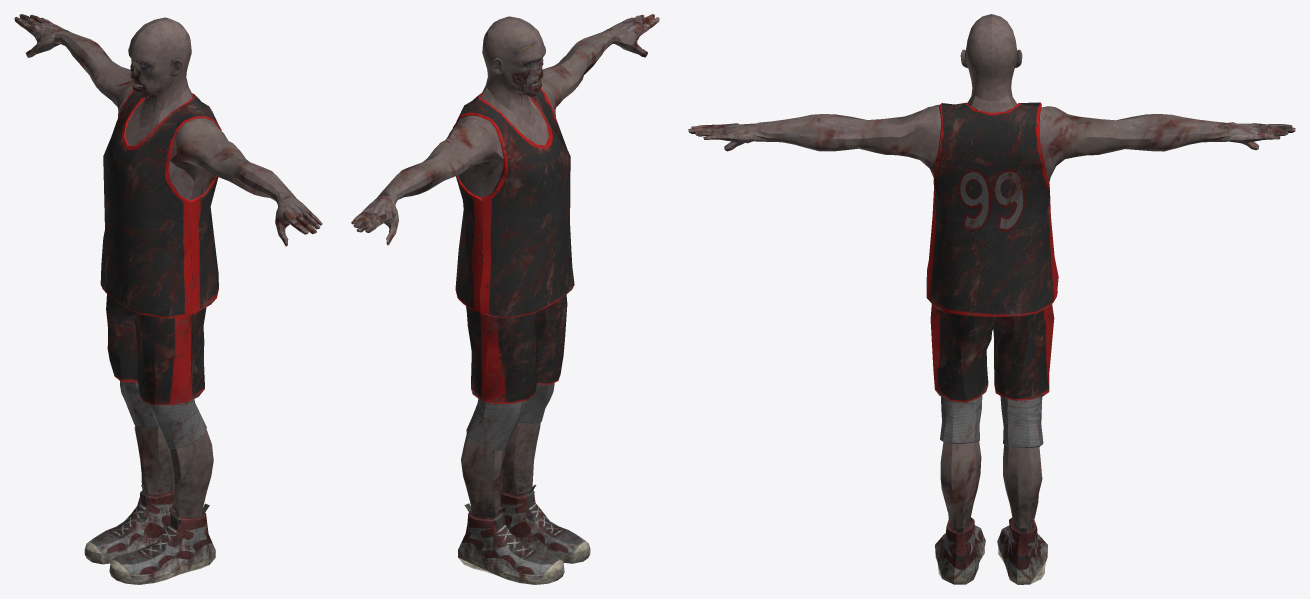
Rendered from Zombie Man 1.fbx.
3 views of the same model, side by side, from view 1: azimuth 30°, elevation 25°; view 2: azimuth 150°, elevation 25°; view 3: azimuth 270°, elevation 25° (orthographic). The views are drawn at different scales.
Parts seen in each view (by area): view 1: Body, L_Arm, Head, R_Arm; view 2: Body, R_Arm, Head, L_Arm; view 3: Body, L_Arm, R_Arm, Head.
Boxes of the visible parts, x1=… form: Body: x1=84, y1=86, x2=221, y2=584; L_Arm: x1=176, y1=118, x2=322, y2=246; Head: x1=128, y1=17, x2=191, y2=128; R_Arm: x1=14, y1=14, x2=133, y2=109; Body: x1=453, y1=85, x2=590, y2=584; R_Arm: x1=351, y1=115, x2=497, y2=245; Head: x1=482, y1=16, x2=545, y2=127; L_Arm: x1=541, y1=14, x2=659, y2=109; Body: x1=926, y1=95, x2=1058, y2=584; L_Arm: x1=688, y1=104, x2=941, y2=167; R_Arm: x1=1040, y1=106, x2=1295, y2=165; Head: x1=960, y1=14, x2=1022, y2=101.
Size of the model in its own units: 0.5247 by 2.47 by 2.47.
Materials: 1 (1 with a texture image).
